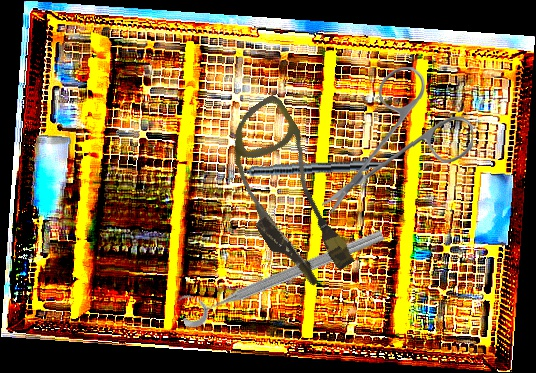Cannula: (201, 92, 374, 296)
Fixation Ring: (173, 213, 388, 331)
Handpiece: (220, 155, 384, 180)
Iris Scissors: (321, 64, 476, 219)
